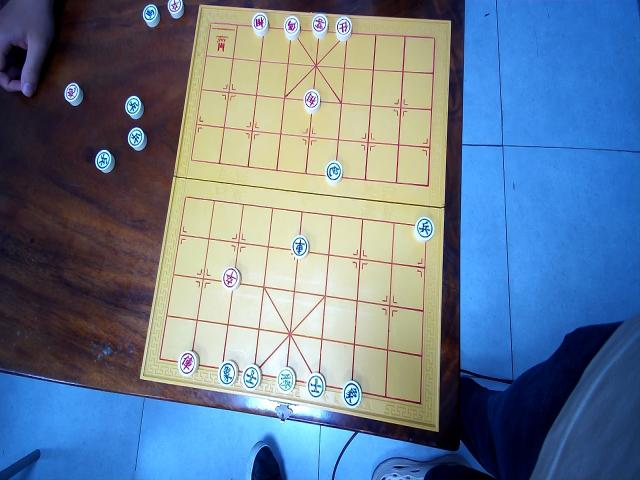piece: (178, 348, 198, 376), (242, 363, 262, 391), (342, 380, 362, 408), (306, 372, 326, 399), (414, 215, 434, 241), (63, 81, 83, 106), (126, 125, 146, 150), (94, 149, 114, 173), (277, 367, 295, 393), (218, 360, 236, 386), (222, 265, 240, 290), (324, 159, 342, 184), (142, 3, 160, 28), (291, 234, 309, 258), (125, 95, 143, 119), (335, 16, 352, 41), (303, 89, 320, 113), (284, 15, 300, 40), (252, 11, 268, 36), (312, 13, 328, 38), (167, 0, 184, 19)
